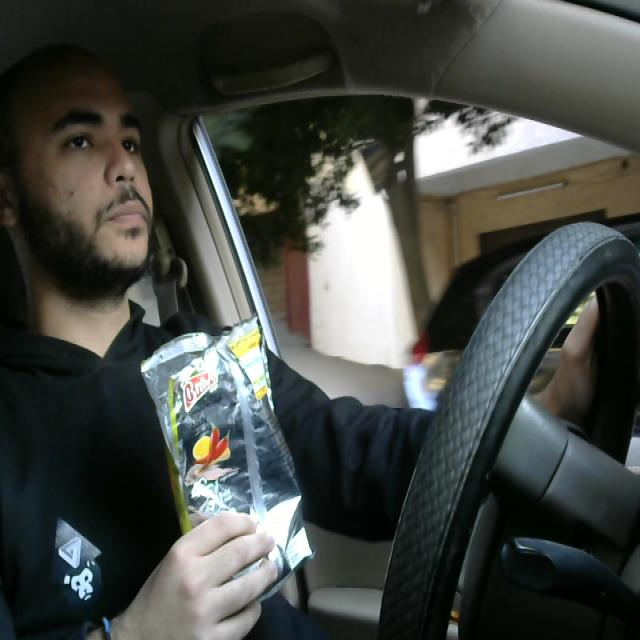eating: (136, 301, 314, 608)
